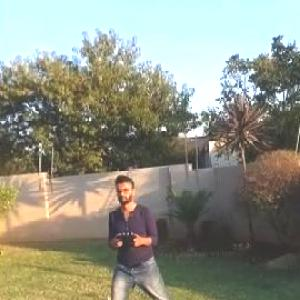follow: (106, 170, 192, 299)
